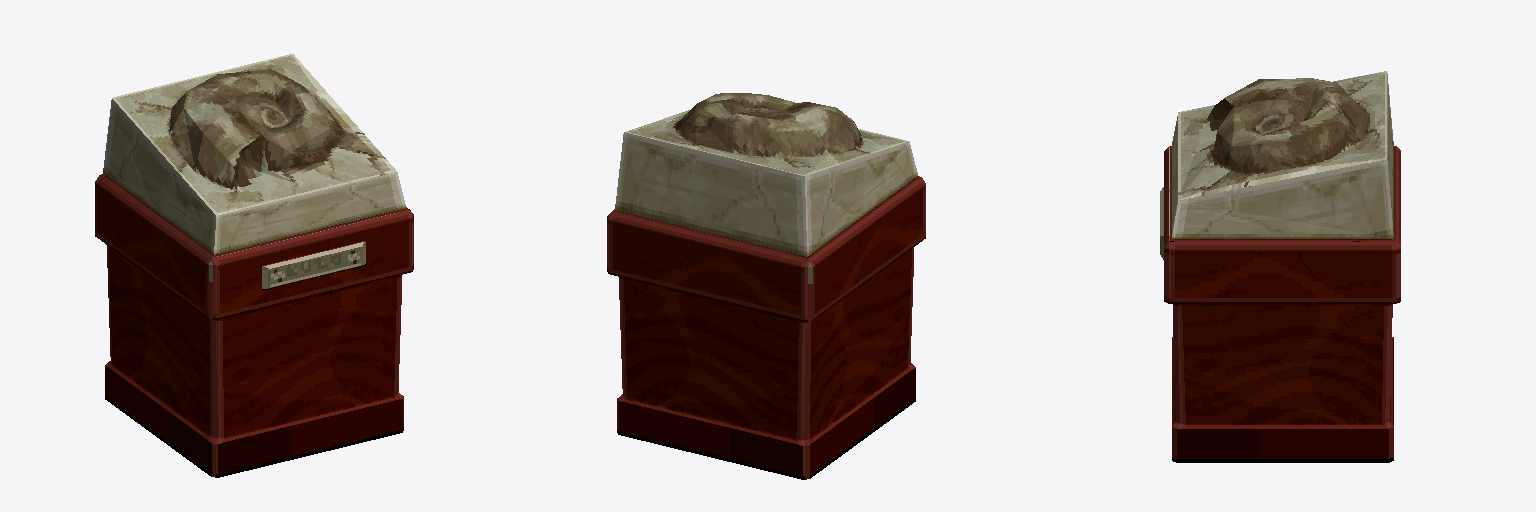
3 views of the same model, side by side, from view 1: azimuth 30°, elevation 25°; view 2: azimuth 150°, elevation 25°; view 3: azimuth 270°, elevation 25° (orthographic).
Visible parts, largest first — view 1: polygon0_polygon0_Material.003, polygon1_polygon1_Material.001, polygon2_polygon2_Material.002; view 2: polygon0_polygon0_Material.003, polygon2_polygon2_Material.002, polygon1_polygon1_Material.001; view 3: polygon0_polygon0_Material.003, polygon1_polygon1_Material.001, polygon2_polygon2_Material.002.
Part boxes in pixels (bbox=[...]): polygon0_polygon0_Material.003: bbox=[95, 174, 413, 477]; polygon1_polygon1_Material.001: bbox=[112, 54, 396, 215]; polygon2_polygon2_Material.002: bbox=[103, 99, 405, 254]; polygon0_polygon0_Material.003: bbox=[607, 176, 925, 479]; polygon2_polygon2_Material.002: bbox=[615, 132, 917, 256]; polygon1_polygon1_Material.001: bbox=[625, 93, 908, 175]; polygon0_polygon0_Material.003: bbox=[1160, 146, 1400, 462]; polygon1_polygon1_Material.001: bbox=[1178, 71, 1386, 200]; polygon2_polygon2_Material.002: bbox=[1172, 73, 1393, 238].
Bounding box in the file's own units: 0.7897 × 1.18 × 0.8082.
3 materials, 3 textured.